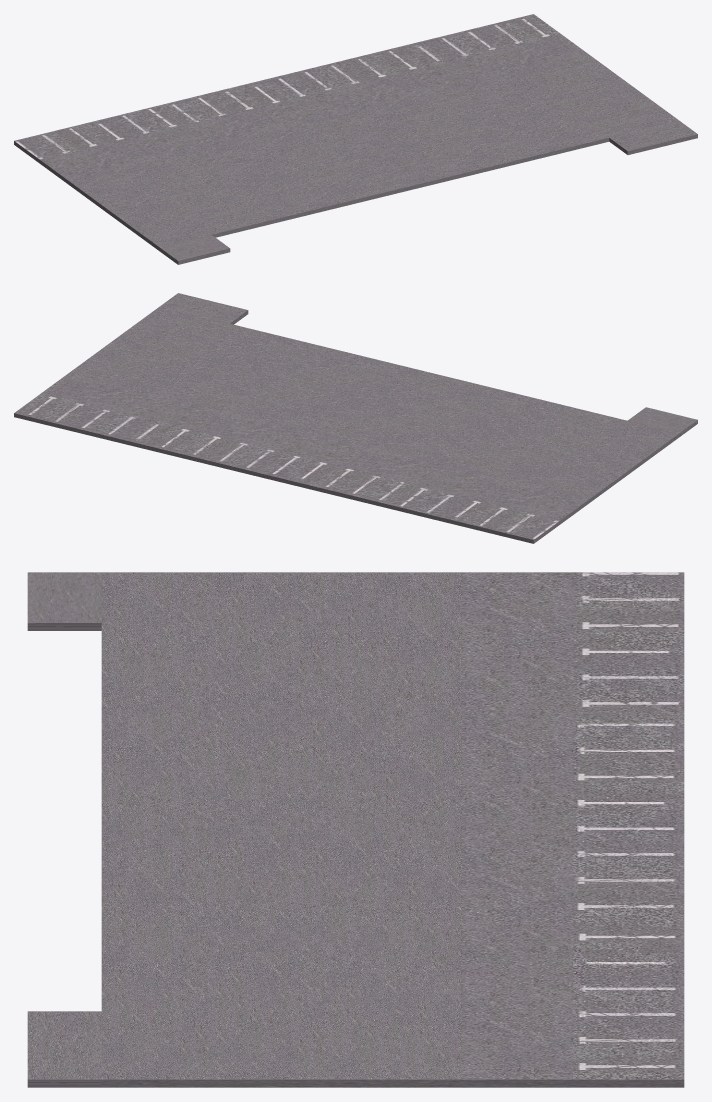
The model's file is parkin.obj.
The picture shows the model from 3 angles, top to bottom: view 1: azimuth 30°, elevation 25°; view 2: azimuth 150°, elevation 25°; view 3: azimuth 270°, elevation 25°; orthographic projection. The views are drawn at different scales.
Parts seen in each view (by area): view 1: estacionamiento; view 2: estacionamiento; view 3: estacionamiento.
Part boxes in pixels (x1,y1,x2,y2): estacionamiento: [14, 14, 697, 264]; estacionamiento: [14, 293, 697, 543]; estacionamiento: [27, 572, 684, 1087].
Bounding box in the file's own units: 13.77 × 0.1 × 7.54.
Materials: 1 (1 with a texture image).
